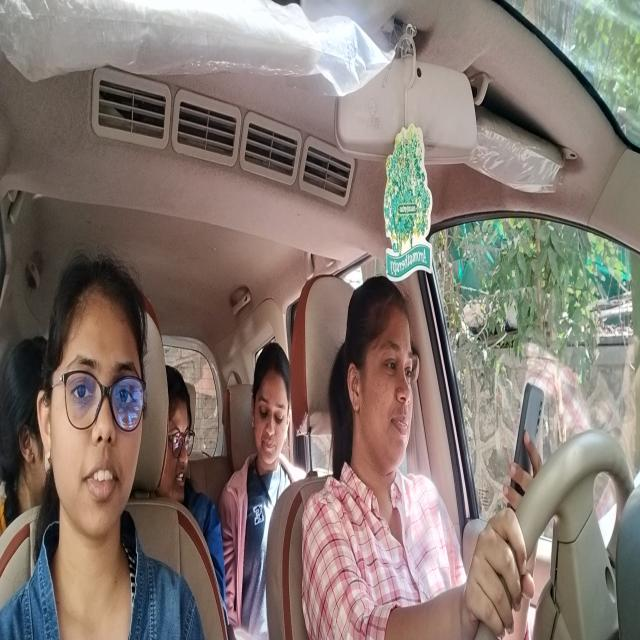mobile: (508, 374, 548, 536)
person: (38, 257, 147, 554), (345, 276, 416, 484), (4, 334, 49, 508), (251, 340, 294, 486), (160, 345, 196, 501)
